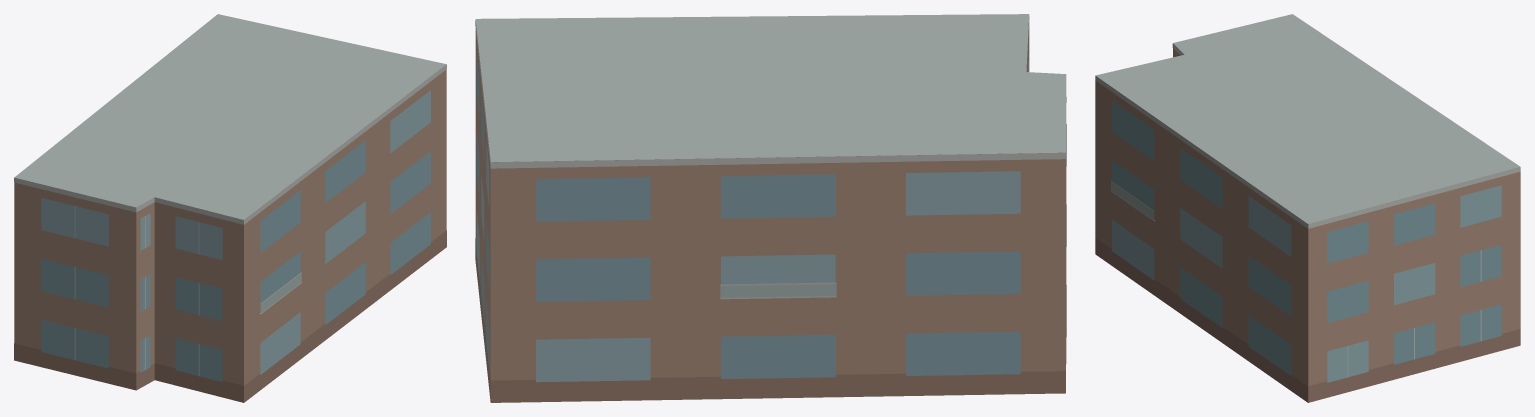
The model's file is survey-upis-32777167.glb.
3 views of the same model, side by side, from view 1: azimuth 30°, elevation 25°; view 2: azimuth 150°, elevation 25°; view 3: azimuth 270°, elevation 25° (orthographic). The views are drawn at different scales.
Parts seen in each view (by area): view 1: survey-upis-32777167.tmp; view 2: survey-upis-32777167.tmp; view 3: survey-upis-32777167.tmp.
Boxes of the visible parts, <box> form: survey-upis-32777167.tmp: <box>14,14,446,402</box>; survey-upis-32777167.tmp: <box>475,14,1066,402</box>; survey-upis-32777167.tmp: <box>1095,14,1520,402</box>.
Bounding box in the file's own units: 23.08 × 9.15 × 19.74.
